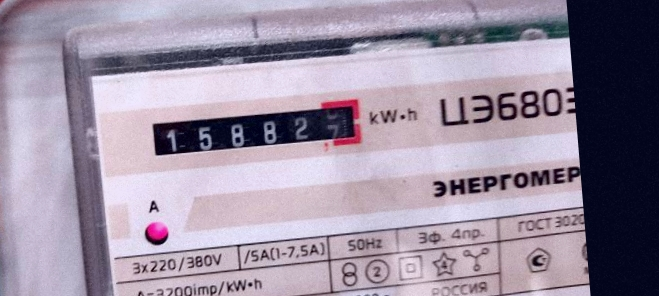1: (165, 124, 180, 154)
2: (292, 114, 311, 141)
5: (196, 123, 215, 154)
7: (325, 121, 339, 139)
8: (228, 120, 246, 149), (261, 117, 279, 146)
screen: (139, 89, 370, 168)
